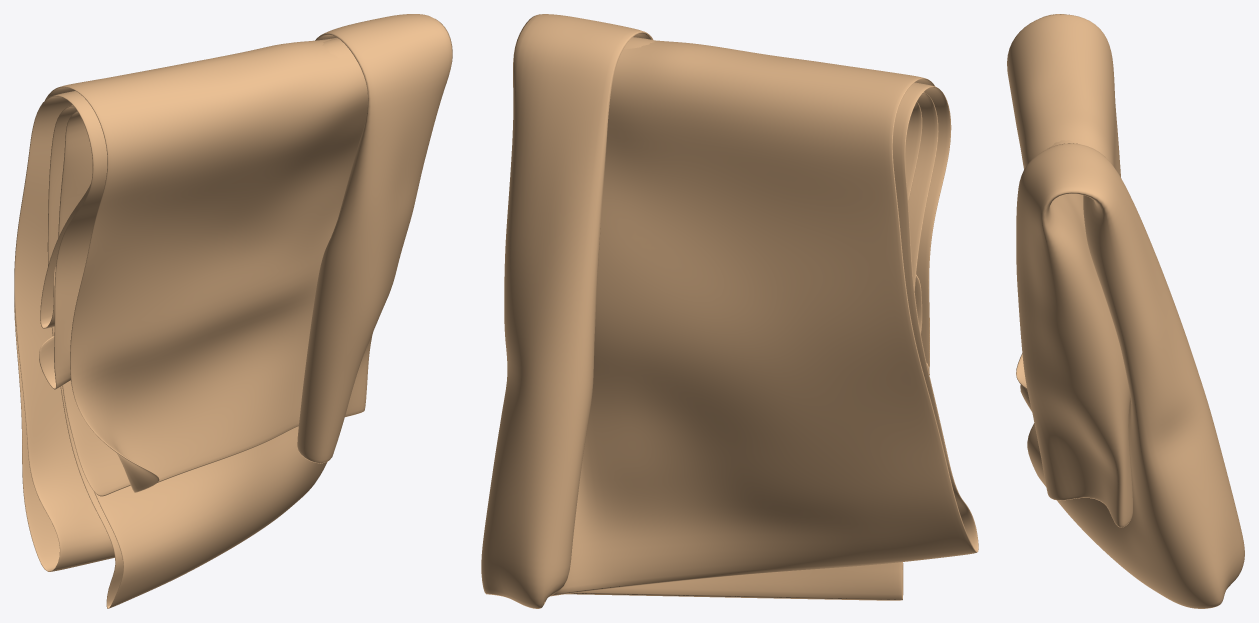
File: towel1.fbx
3 renders of one model, left to right at view 1: azimuth 30°, elevation 25°; view 2: azimuth 150°, elevation 25°; view 3: azimuth 270°, elevation 25°, orthographic. The views are drawn at different scales.
Visible parts, largest first — view 1: Towel; view 2: Towel; view 3: Towel.
Boxes of the visible parts, box(x1,y1,x2,y2) form: Towel: box(14, 14, 452, 608); Towel: box(481, 14, 978, 608); Towel: box(1007, 14, 1244, 608).
Size of what is drawn, in the model's own units: 188 by 226 by 105.
